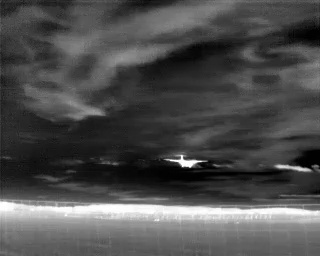AIRPLANE: (161, 150, 210, 171)
